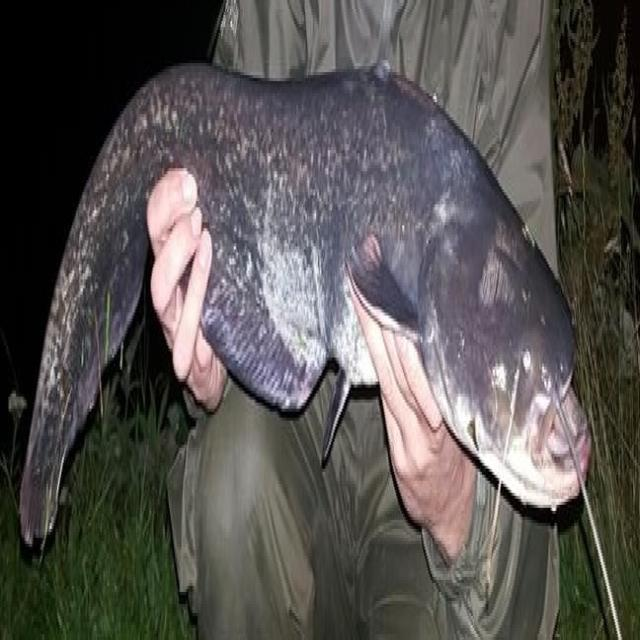Catfish: (20, 21, 606, 598)
